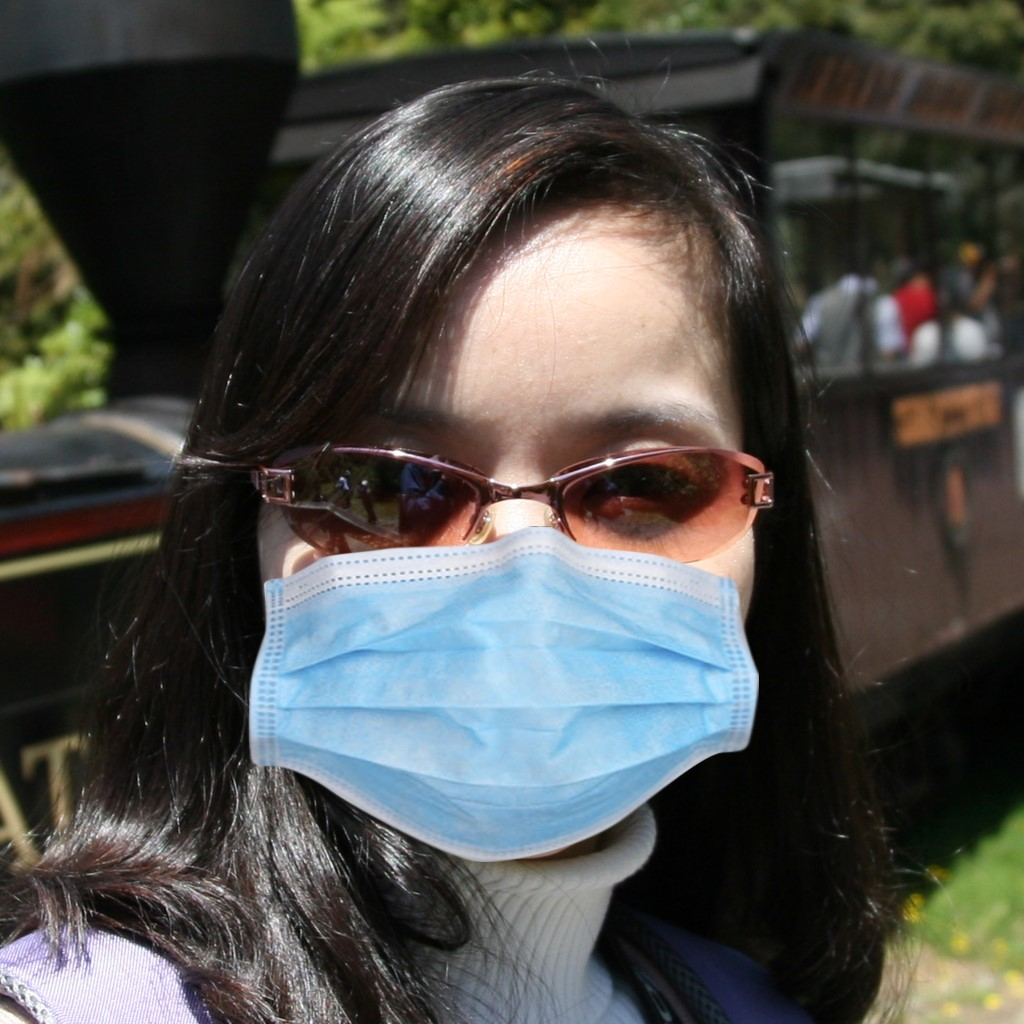con_mascara: (270, 181, 735, 843)
